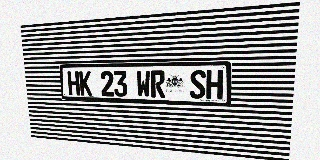2: (100, 71, 114, 96)
3: (113, 71, 127, 97)
H: (206, 70, 223, 99), (67, 71, 80, 95)
K: (79, 71, 92, 96)
R: (150, 70, 165, 98)
S: (190, 70, 206, 99)
W: (136, 70, 150, 97)
